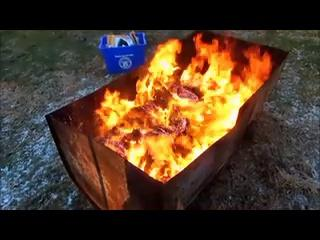fire: (95, 31, 273, 182)
